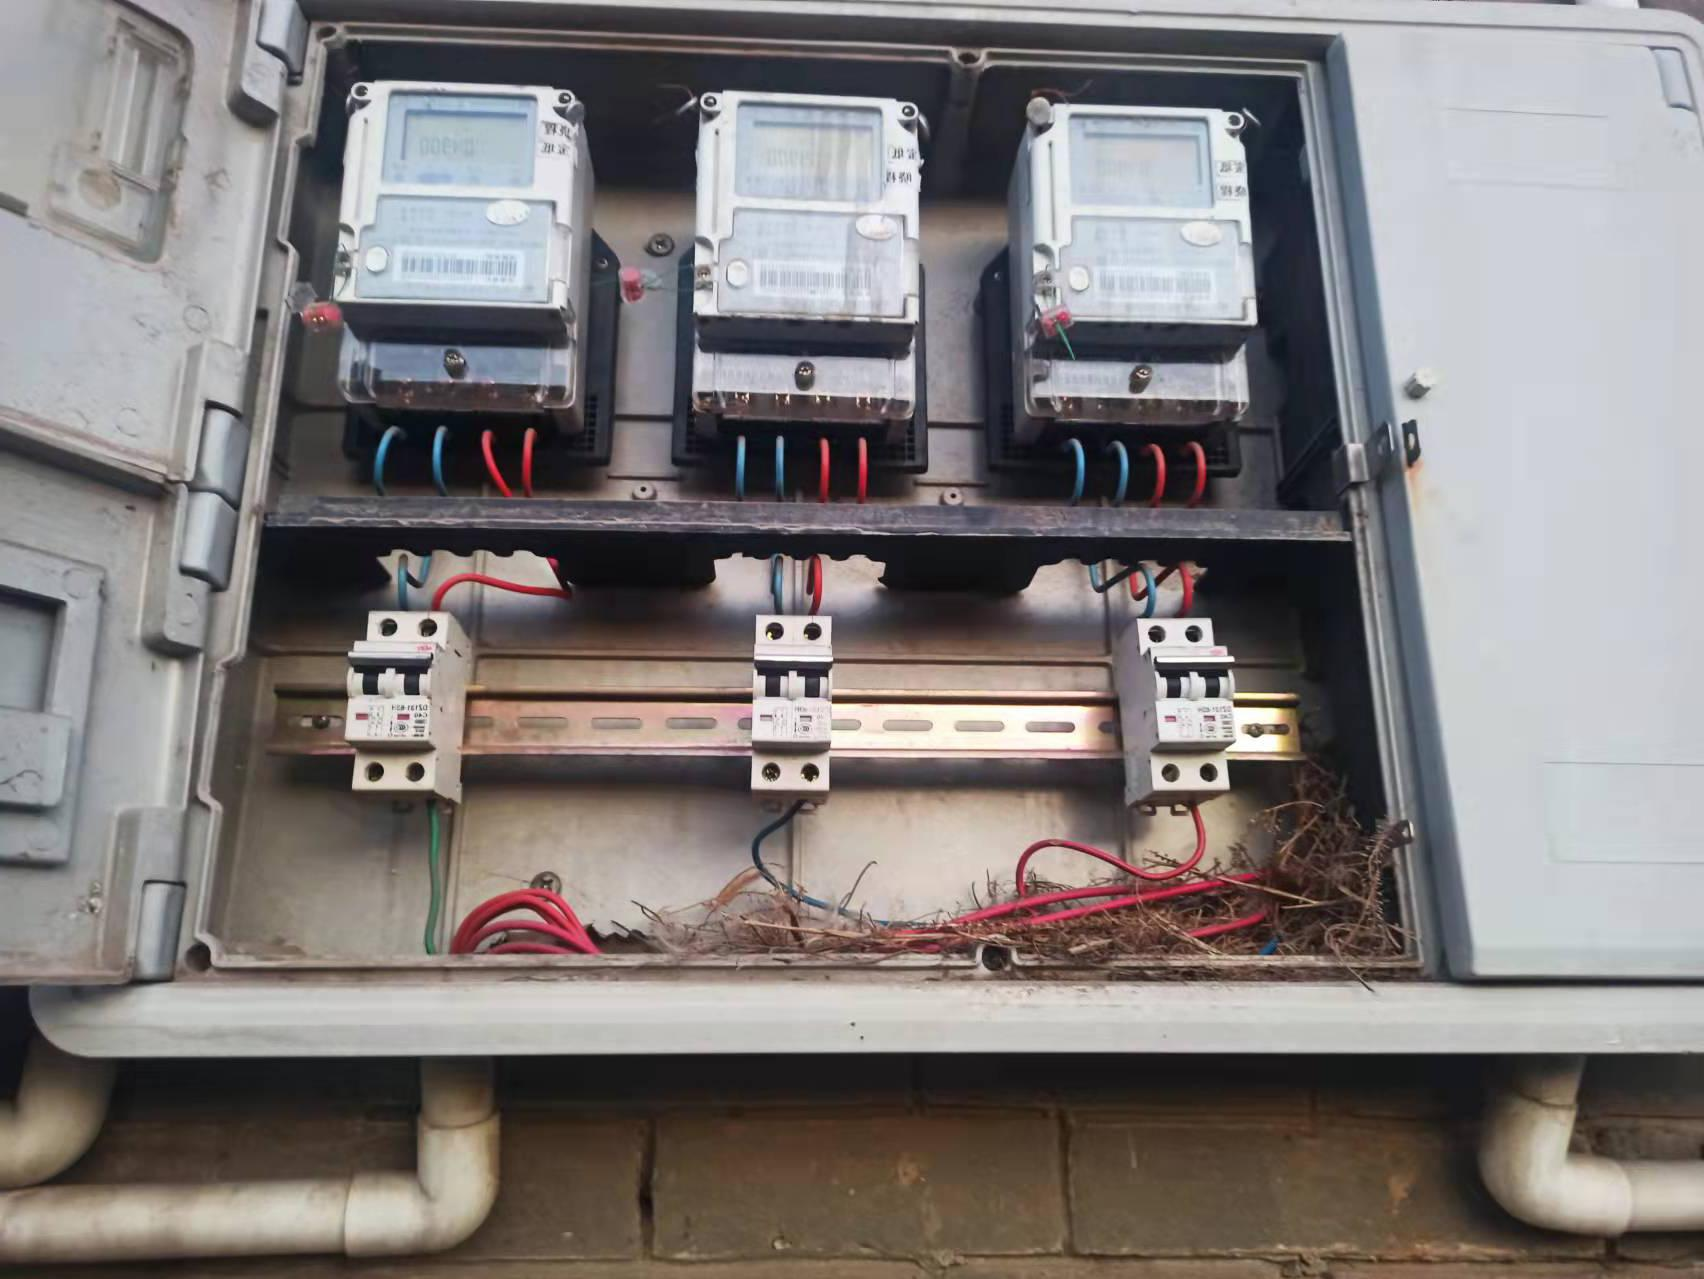digital: (338, 79, 569, 310), (692, 87, 916, 322), (1029, 101, 1253, 321)
